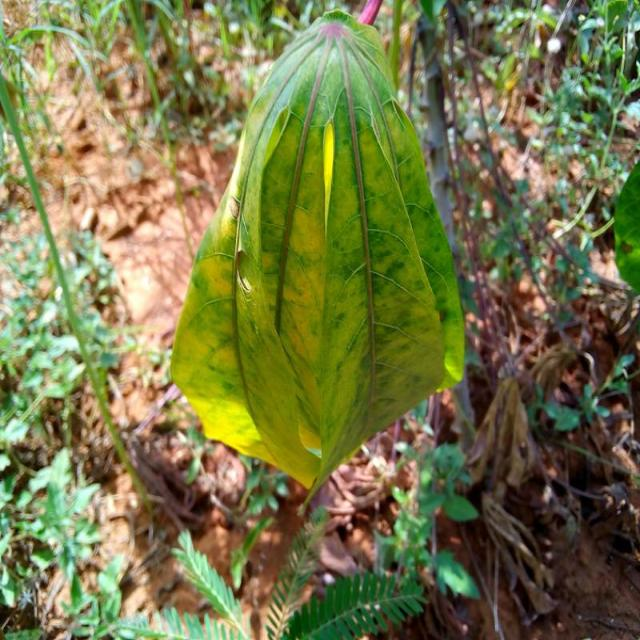cassava leaf: (168, 8, 466, 494)
